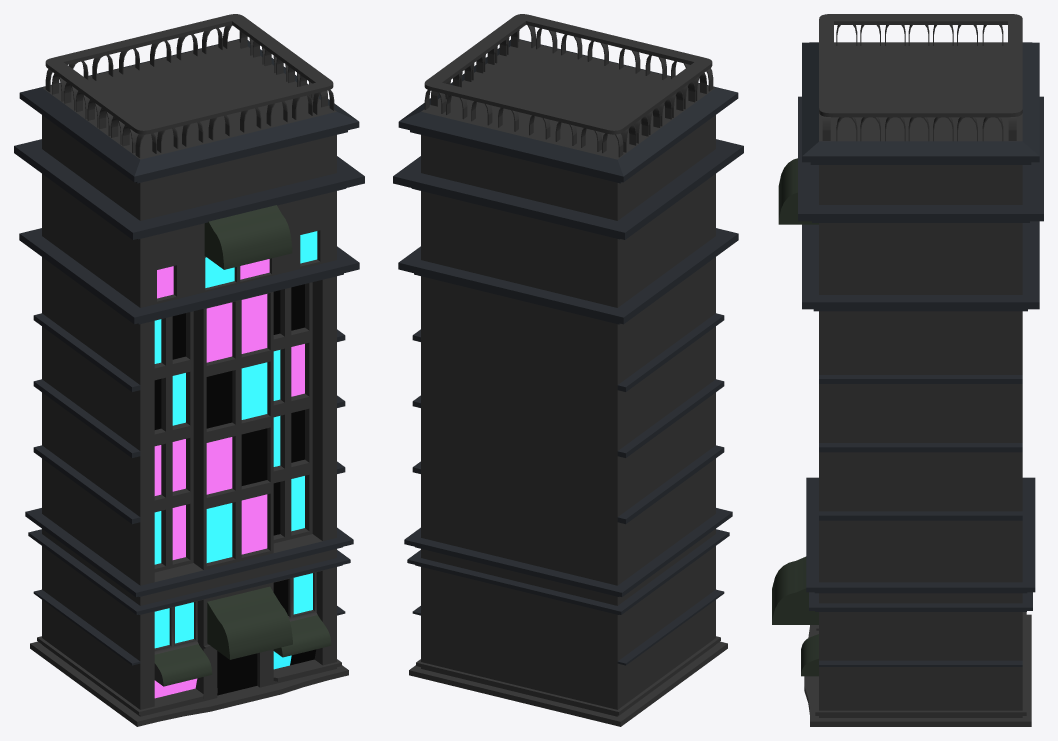
The model's file is Building1 blue and pink.fbx.
3 renders of one model, left to right at view 1: azimuth 30°, elevation 25°; view 2: azimuth 150°, elevation 25°; view 3: azimuth 270°, elevation 25°, orthographic. The views are drawn at different scales.
Visible parts, largest first — view 1: building.001; view 2: building.001; view 3: building.001.
Part boxes in pixels (x1,y1,x2,y2): building.001: [14, 14, 364, 726]; building.001: [393, 14, 743, 726]; building.001: [772, 14, 1043, 726].
Bounding box in the file's own units: 163 × 397 × 160.
